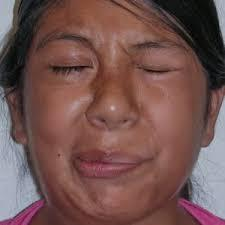strokeMouthSevere: (72, 141, 158, 182)
